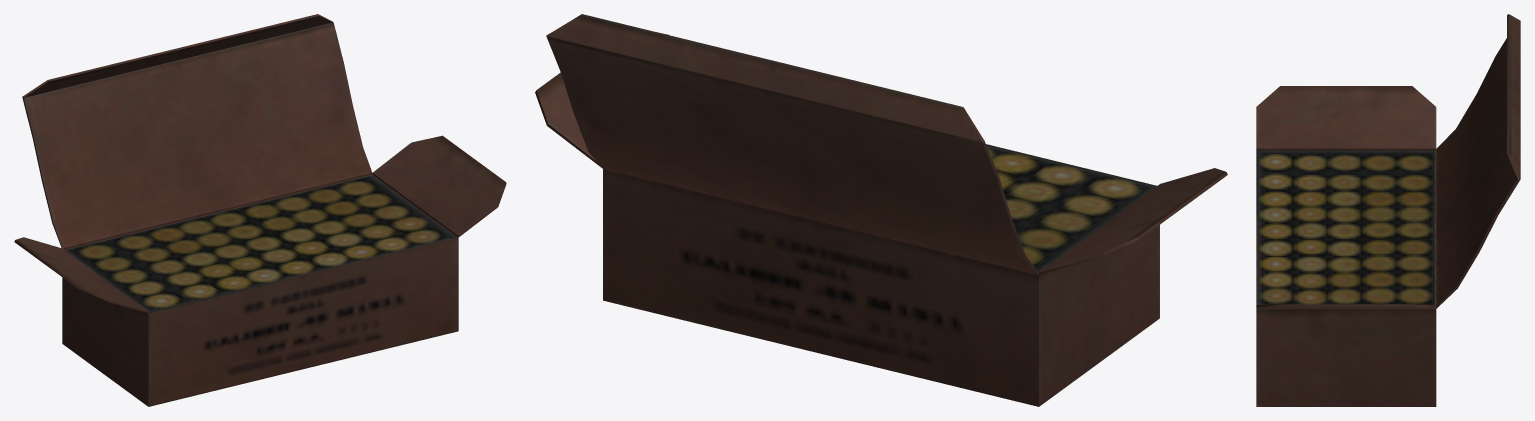
File: ammo_box_mp_1.obj
3 renders of one model, left to right at view 1: azimuth 30°, elevation 25°; view 2: azimuth 150°, elevation 25°; view 3: azimuth 270°, elevation 25°, orthographic. The views are drawn at different scales.
Parts seen in each view (by area): view 1: ammo_box_mp_1; view 2: ammo_box_mp_1; view 3: ammo_box_mp_1.
Boxes of the visible parts, x1,y1,x2,y2 form: ammo_box_mp_1: [14, 14, 506, 406]; ammo_box_mp_1: [535, 14, 1227, 406]; ammo_box_mp_1: [1256, 14, 1520, 406].
Bounding box in the file's own units: 0.2159 × 0.1124 × 0.1101.
